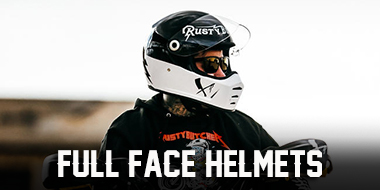with_helmet: (139, 6, 253, 117)
